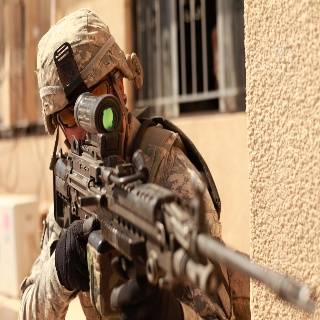rifle: (51, 87, 317, 317)
